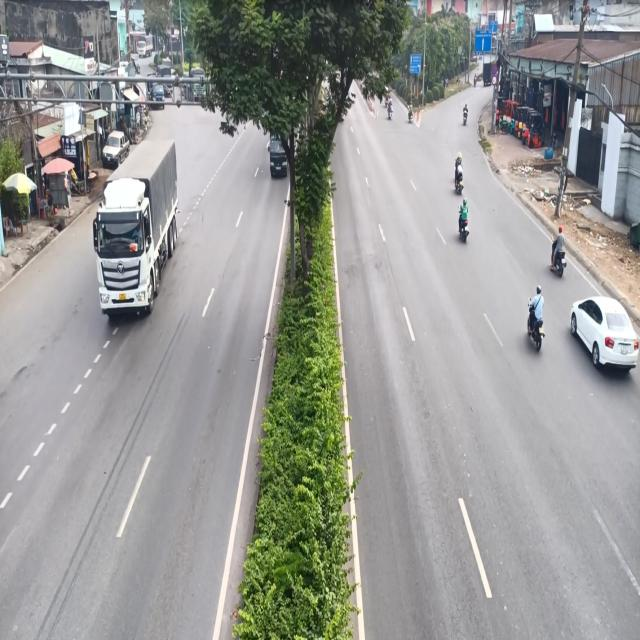car: (565, 281, 640, 383)
motor: (522, 283, 550, 361), (456, 197, 472, 247), (552, 225, 567, 277), (452, 152, 466, 193)
truck: (93, 133, 179, 324)
